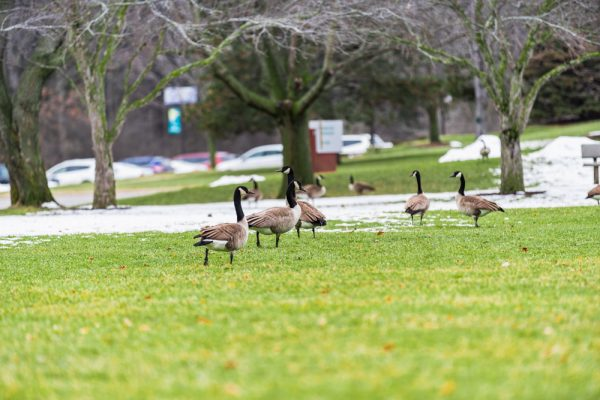goose: (191, 186, 255, 264), (448, 171, 504, 232), (403, 170, 431, 227)
